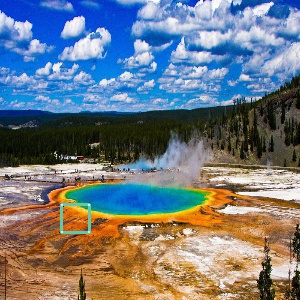square: (58, 201, 92, 235)
